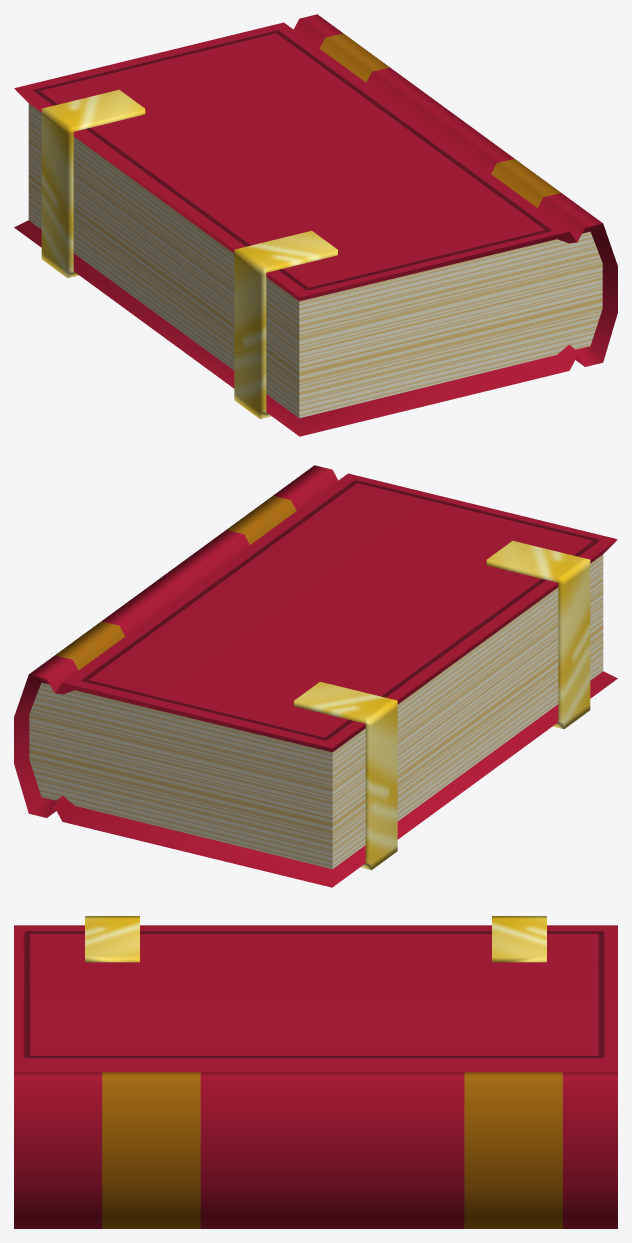
Rendered from book_held_ASS.fbx.
3 renders of one model, top to bottom at view 1: azimuth 30°, elevation 25°; view 2: azimuth 150°, elevation 25°; view 3: azimuth 270°, elevation 25°, orthographic. The views are drawn at different scales.
Visible parts, largest first — view 1: BOOK_held_MESH; view 2: BOOK_held_MESH; view 3: BOOK_held_MESH.
Part boxes in pixels (left/top/right/bottom): BOOK_held_MESH: left=14, top=14, right=617, bottom=436; BOOK_held_MESH: left=14, top=465, right=617, bottom=887; BOOK_held_MESH: left=14, top=916, right=617, bottom=1228.
Size of the model in its own units: 17.78 by 7.9 by 27.15.
Materials: 1 (1 with a texture image).
